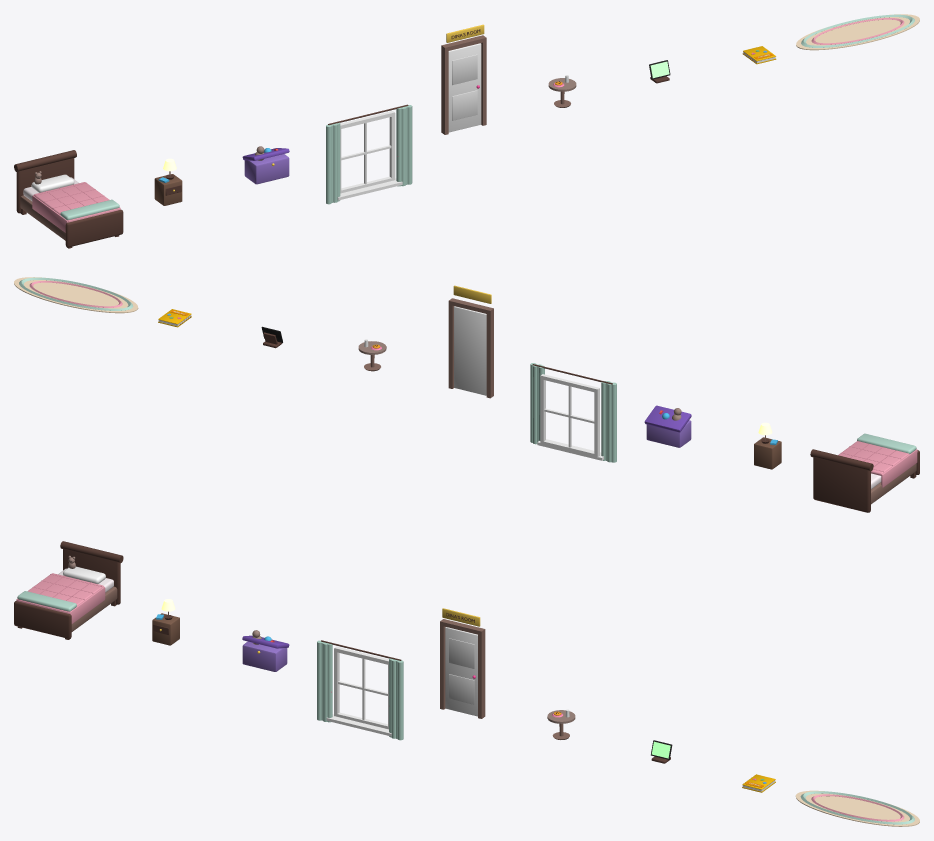
The model's file is dina_room.glb.
3 renders of one model, top to bottom at view 1: azimuth 30°, elevation 25°; view 2: azimuth 150°, elevation 25°; view 3: azimuth 330°, elevation 25°, orthographic.
Visible parts, largest first — view 1: Window_mesh, Bed_mesh, DoorLeaf, Rug_mesh, Quilt, DoorFrame_mesh, ToyChest_mesh, Nightstand_mesh, SideTable_mesh; view 2: Window_mesh, Bed_mesh, DoorLeaf, Rug_mesh, Quilt, DoorFrame_mesh, ToyChest_mesh, Nightstand_mesh, SideTable_mesh; view 3: Window_mesh, Bed_mesh, DoorLeaf, Rug_mesh, Quilt, DoorFrame_mesh, ToyChest_mesh, Nightstand_mesh.
Part boxes in pixels (x1,y1,x2,y2): Window_mesh: [326, 104, 412, 204]; Bed_mesh: [14, 150, 123, 248]; DoorLeaf: [448, 43, 481, 132]; Rug_mesh: [796, 14, 919, 50]; Quilt: [32, 182, 120, 232]; DoorFrame_mesh: [441, 24, 486, 134]; ToyChest_mesh: [242, 146, 289, 184]; Nightstand_mesh: [154, 158, 182, 205]; SideTable_mesh: [548, 75, 576, 107]; Window_mesh: [530, 363, 616, 462]; Bed_mesh: [810, 449, 919, 512]; DoorLeaf: [454, 306, 486, 395]; Rug_mesh: [14, 277, 138, 313]; Quilt: [838, 433, 917, 487]; DoorFrame_mesh: [448, 285, 493, 398]; ToyChest_mesh: [644, 405, 691, 447]; Nightstand_mesh: [754, 422, 781, 469]; SideTable_mesh: [358, 339, 386, 371]; Window_mesh: [317, 640, 403, 740]; Bed_mesh: [14, 541, 123, 639]; DoorLeaf: [445, 627, 477, 716]; Rug_mesh: [795, 790, 919, 826]; Quilt: [16, 573, 105, 623]; DoorFrame_mesh: [440, 608, 485, 718]; ToyChest_mesh: [242, 630, 289, 671]; Nightstand_mesh: [152, 599, 179, 645].
Bounding box in the file's own units: 23.18 × 3.5 × 2.38.
